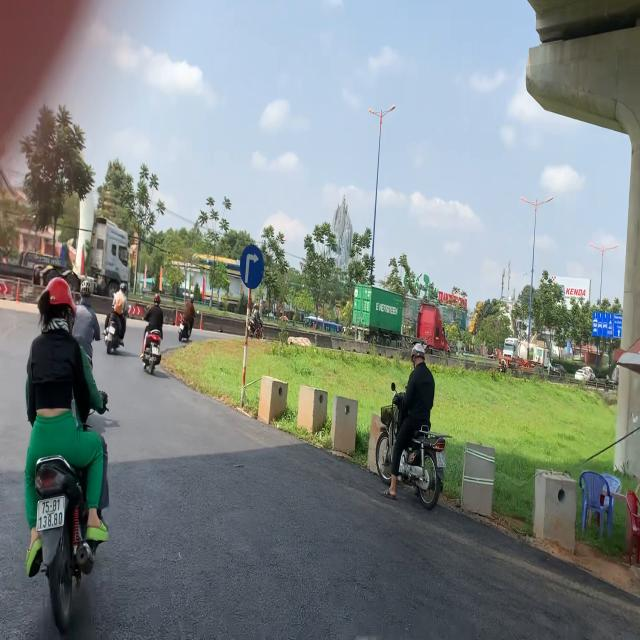Re phai: (238, 242, 264, 291)
